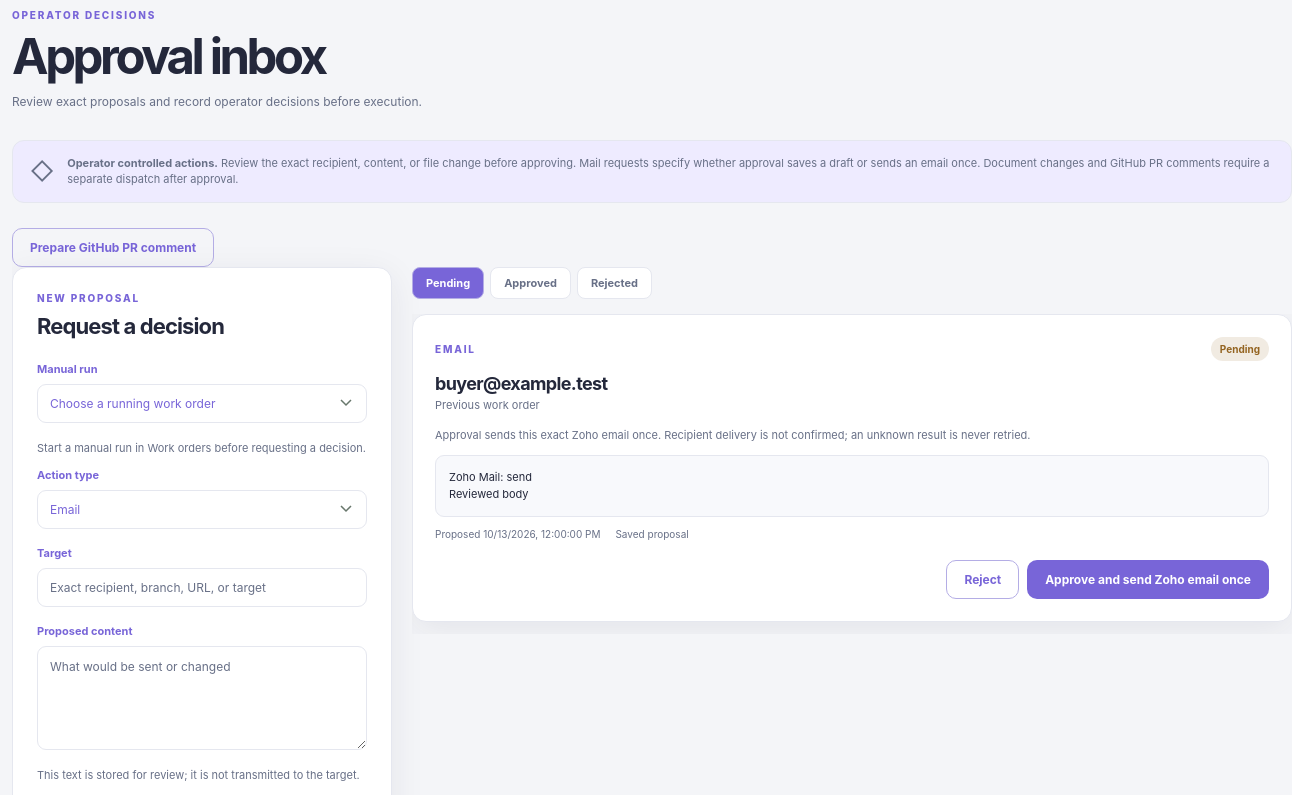
Test: describes the send side effect before approval and reads the receipt
Click the button "Approve and send Zoho email once" at (1148, 579), box [1027,560,1269,599]
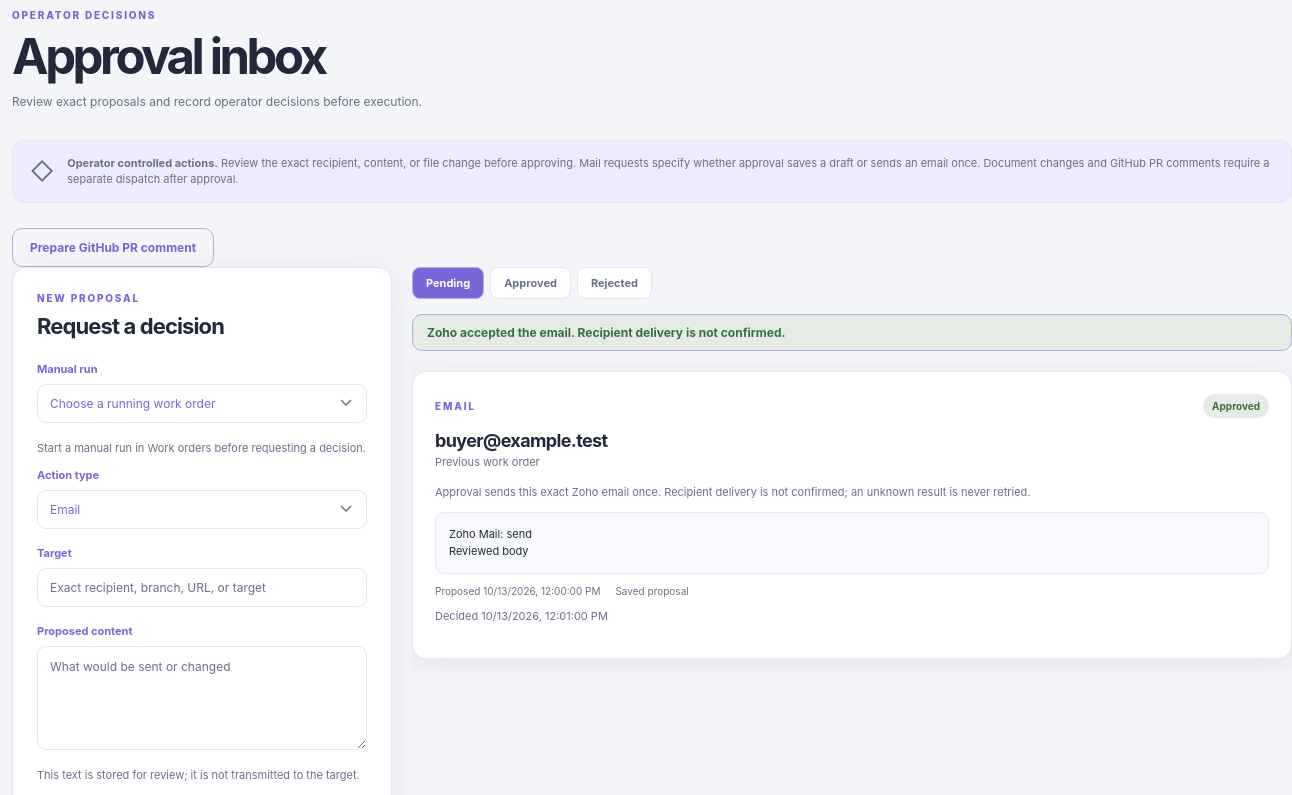
Check: the text "Zoho accepted the email. Recipient delivery is not confirmed." is shown, box [412,314,1291,350]
